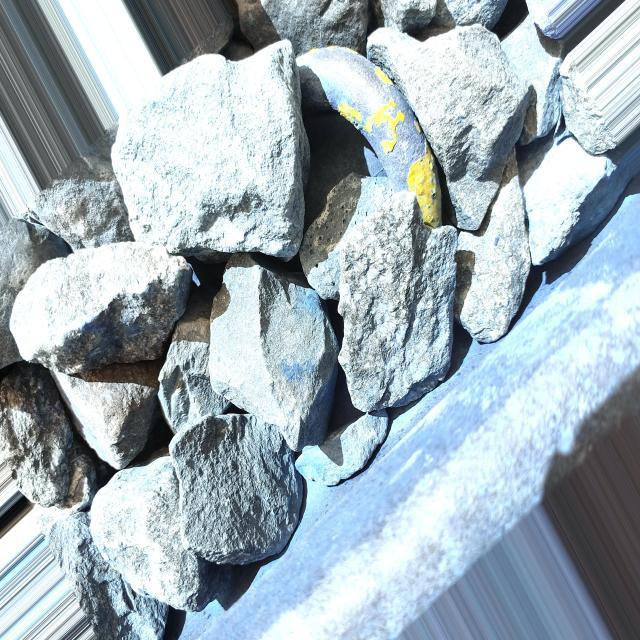Good Fasteners: (297, 46, 441, 227)
